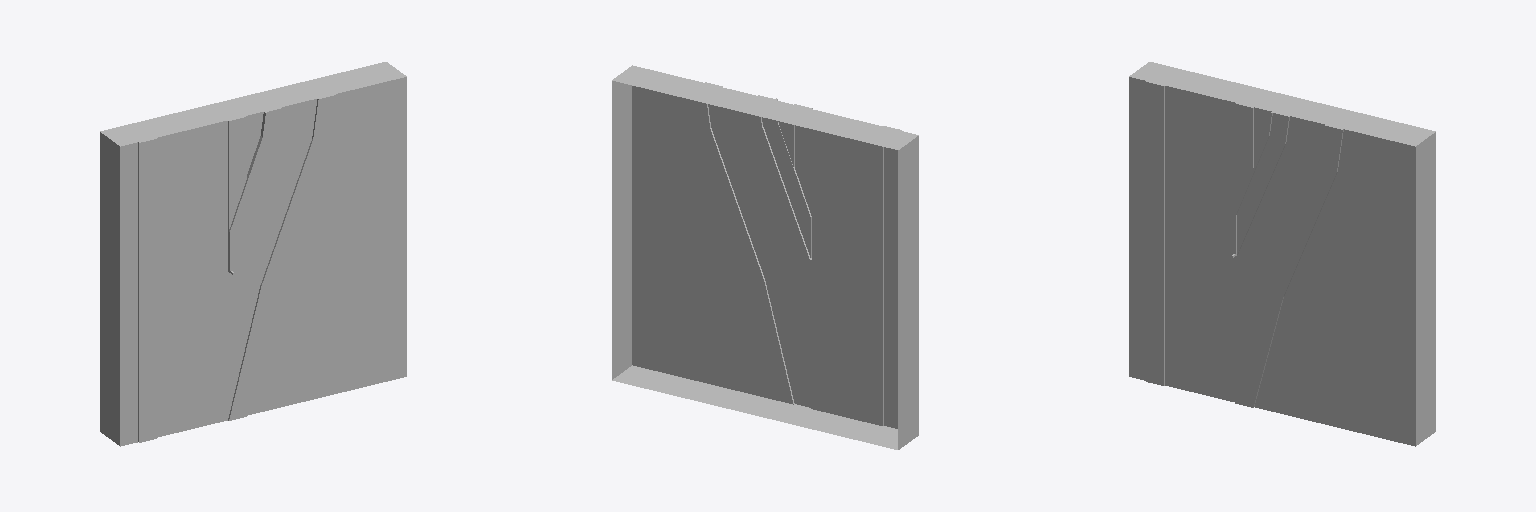
The model's file is track-pit-entry-large.obj.
3 views of the same model, side by side, from view 1: azimuth 30°, elevation 25°; view 2: azimuth 150°, elevation 25°; view 3: azimuth 330°, elevation 25° (orthographic).
Visible parts, largest first — view 1: track-pit-entry-large_Cube.033; view 2: track-pit-entry-large_Cube.033; view 3: track-pit-entry-large_Cube.033.
Part boxes in pixels (bbox=[...]): track-pit-entry-large_Cube.033: bbox=[100, 62, 406, 446]; track-pit-entry-large_Cube.033: bbox=[612, 65, 918, 449]; track-pit-entry-large_Cube.033: bbox=[1129, 62, 1435, 446].
Size of the model in its own units: 16 by 16 by 2.5.